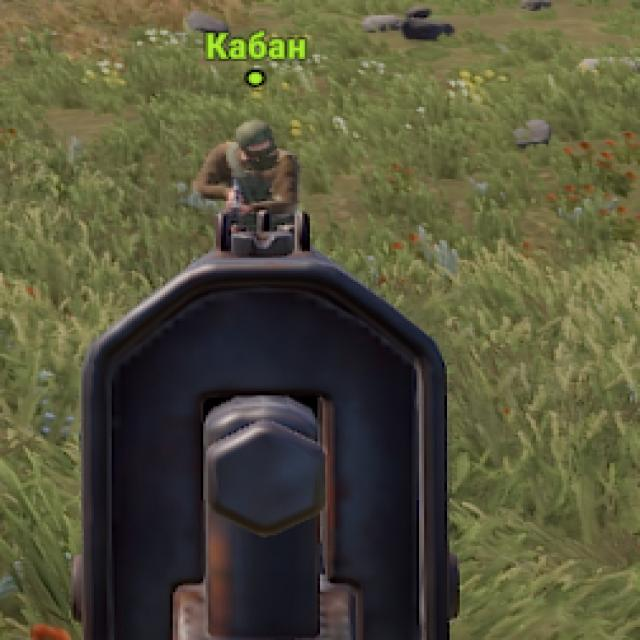Player: (192, 123, 301, 204)
